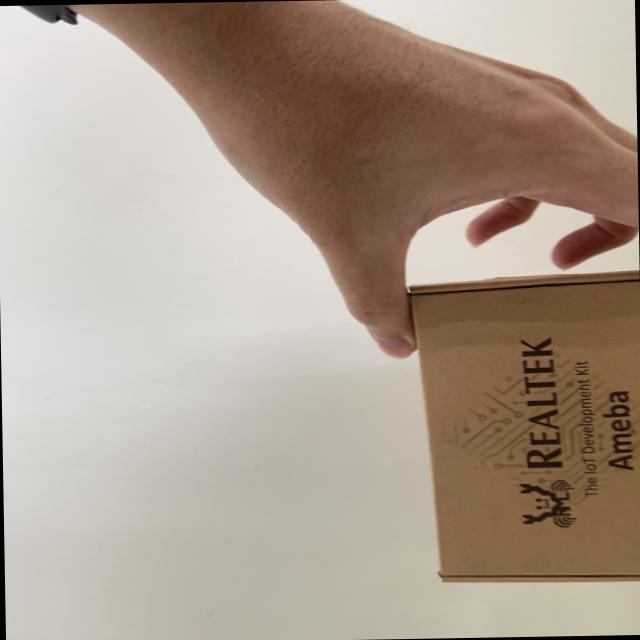box: (390, 272, 640, 607)
